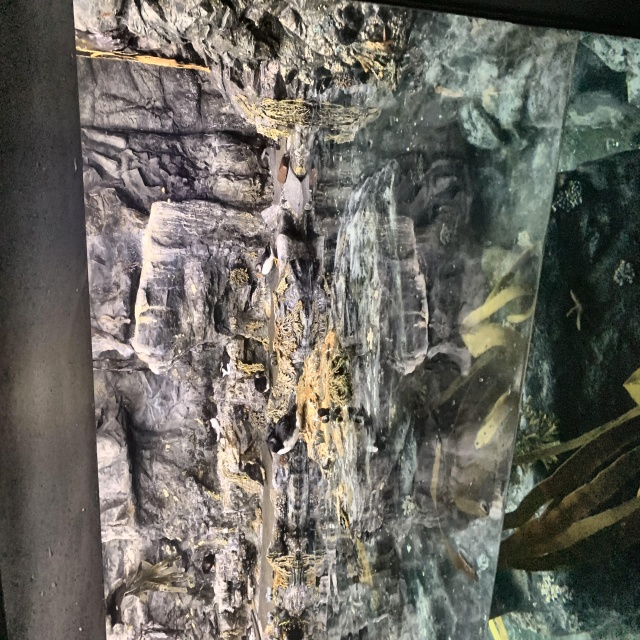puffin: (264, 403, 311, 456), (253, 240, 280, 279), (215, 348, 233, 381), (252, 370, 273, 393)
